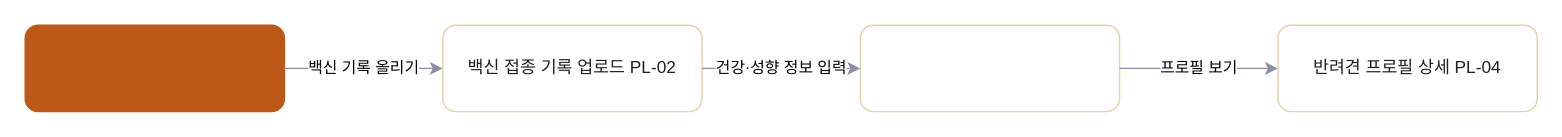
The diagram is 1562 pixels wide and 137 high, and some of its shapes have lost their labels. Each missing label, with the centre of its shape:
건강·특이사항 입력 PL-03: point (989, 68)
반려견 등록 PL-01: point (154, 68)
